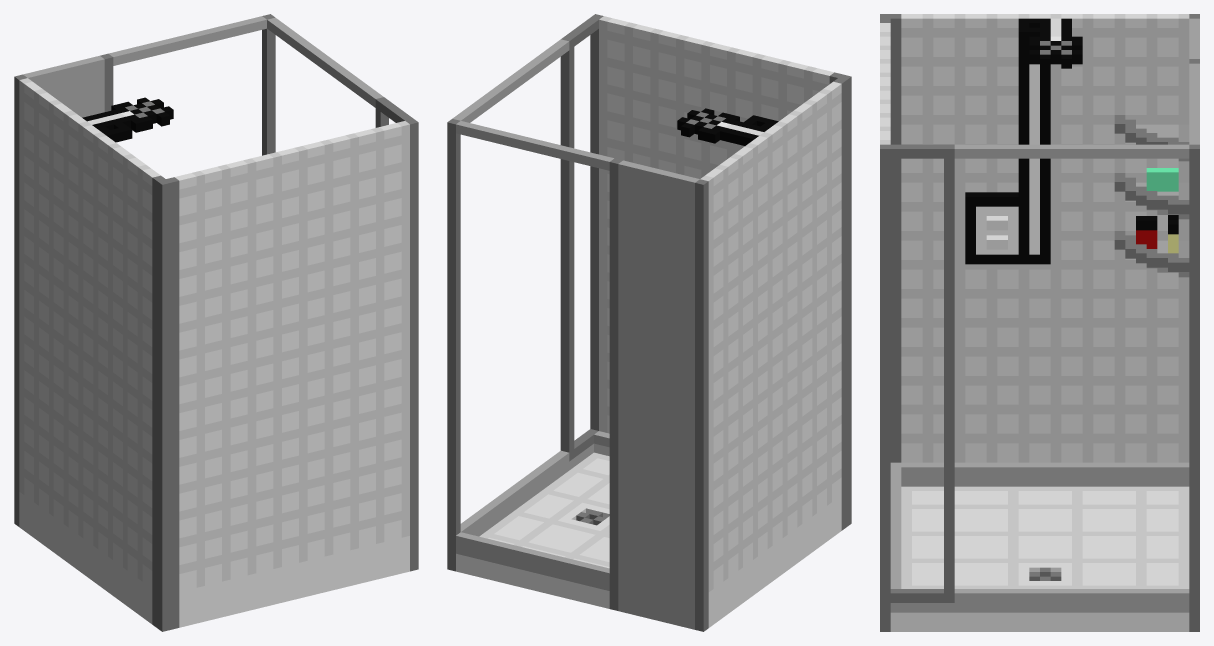
The model's file is Shower.obj.
3 views of the same model, side by side, from view 1: azimuth 30°, elevation 25°; view 2: azimuth 150°, elevation 25°; view 3: azimuth 270°, elevation 25° (orthographic). The views are drawn at different scales.
Size of the model in its own units: 3 by 5 by 3.
Materials: 1 (1 with a texture image).
